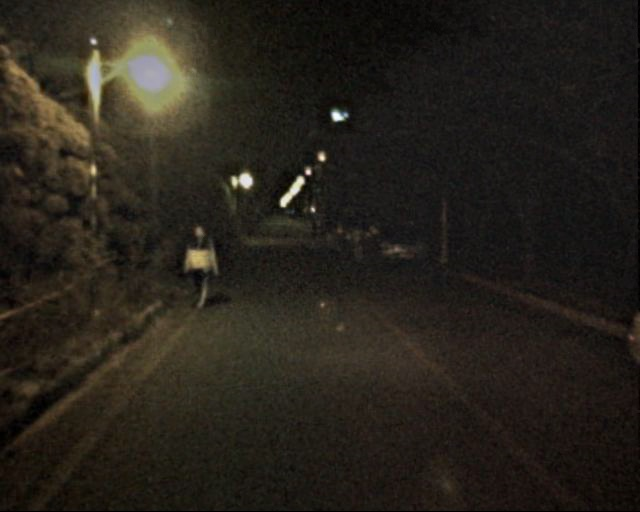person: (182, 221, 218, 309), (351, 224, 368, 265), (312, 219, 330, 241)
